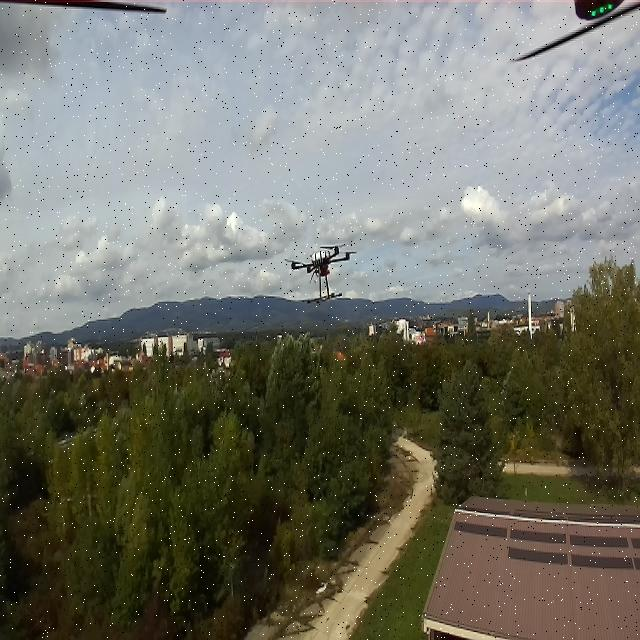UAV: (282, 232, 361, 302)
